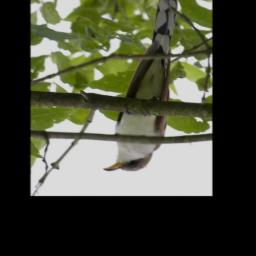Cuckoo: (102, 0, 178, 173)
